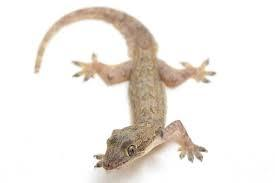lizard: (42, 0, 214, 171)
